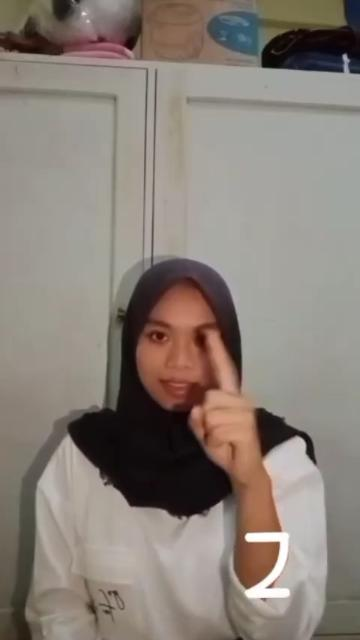Z: (185, 326, 262, 476)
